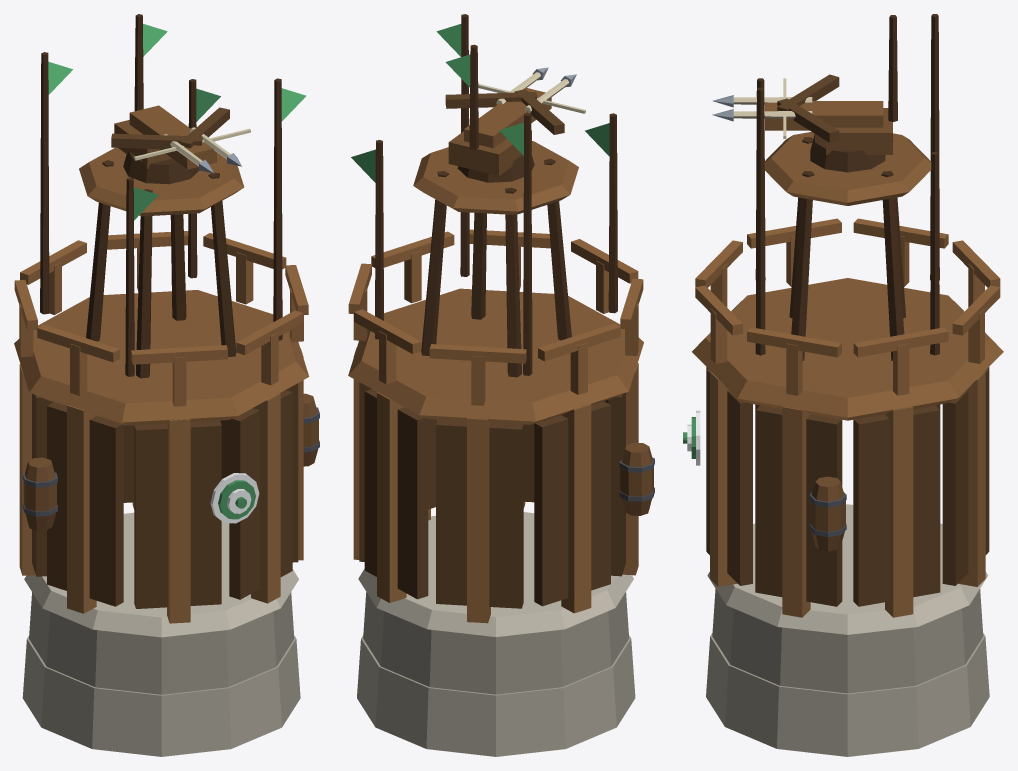
File: tower_arrow_l3_gale.glb
3 views of the same model, side by side, from view 1: azimuth 30°, elevation 25°; view 2: azimuth 150°, elevation 25°; view 3: azimuth 270°, elevation 25° (orthographic). The views are drawn at different scales.
Parts seen in each view (by area): view 1: Body, Turret; view 2: Body, Turret; view 3: Body, Turret.
Boxes of the visible parts, left/top/right/bottom form: Body: left=14, top=52, right=319, bottom=756; Turret: left=111, top=14, right=250, bottom=184; Body: left=348, top=14, right=654, bottom=756; Turret: left=445, top=44, right=585, bottom=182; Body: left=683, top=14, right=1003, bottom=756; Turret: left=712, top=15, right=897, bottom=172.
Size of the model in its own units: 0.8785 by 1.9 by 0.814.
